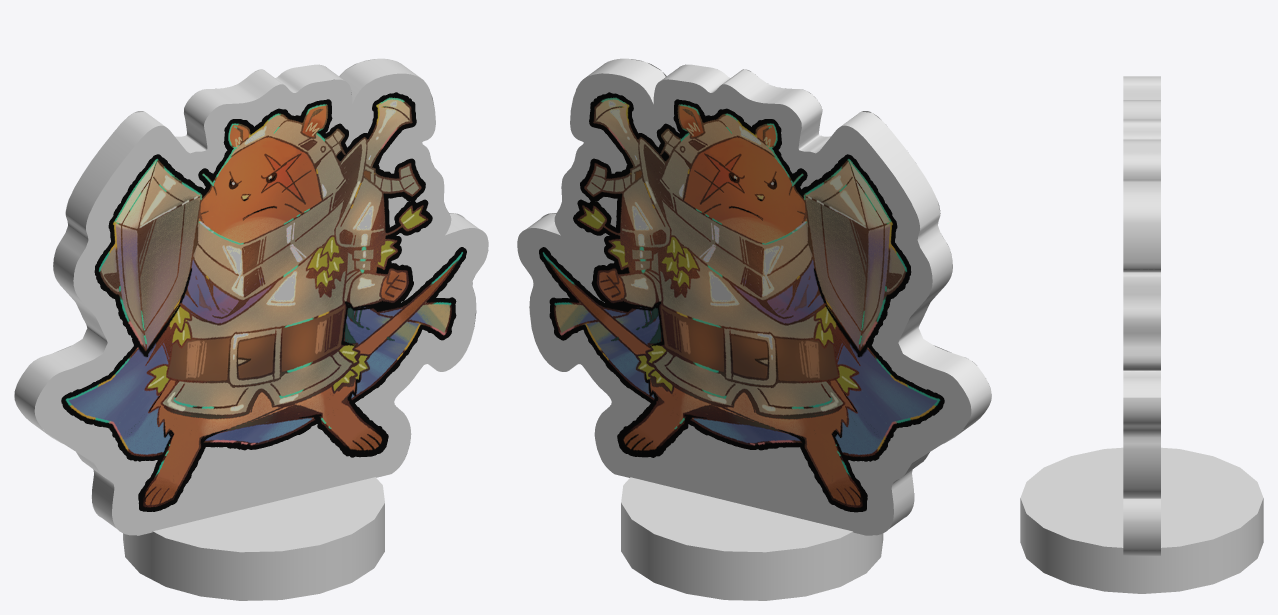
Rendered from warrior_damage.fbx.
3 views of the same model, side by side, from view 1: azimuth 30°, elevation 25°; view 2: azimuth 150°, elevation 25°; view 3: azimuth 270°, elevation 25° (orthographic). The views are drawn at different scales.
Visible parts, largest first — view 1: w2; view 2: w2; view 3: w2.
Boxes of the visible parts, x1=… form: w2: x1=14, y1=58, x2=488, y2=600; w2: x1=517, y1=58, x2=991, y2=600; w2: x1=1020, y1=76, x2=1263, y2=593.
Size of the model in its own units: 19.5 by 19.4 by 9.8.
